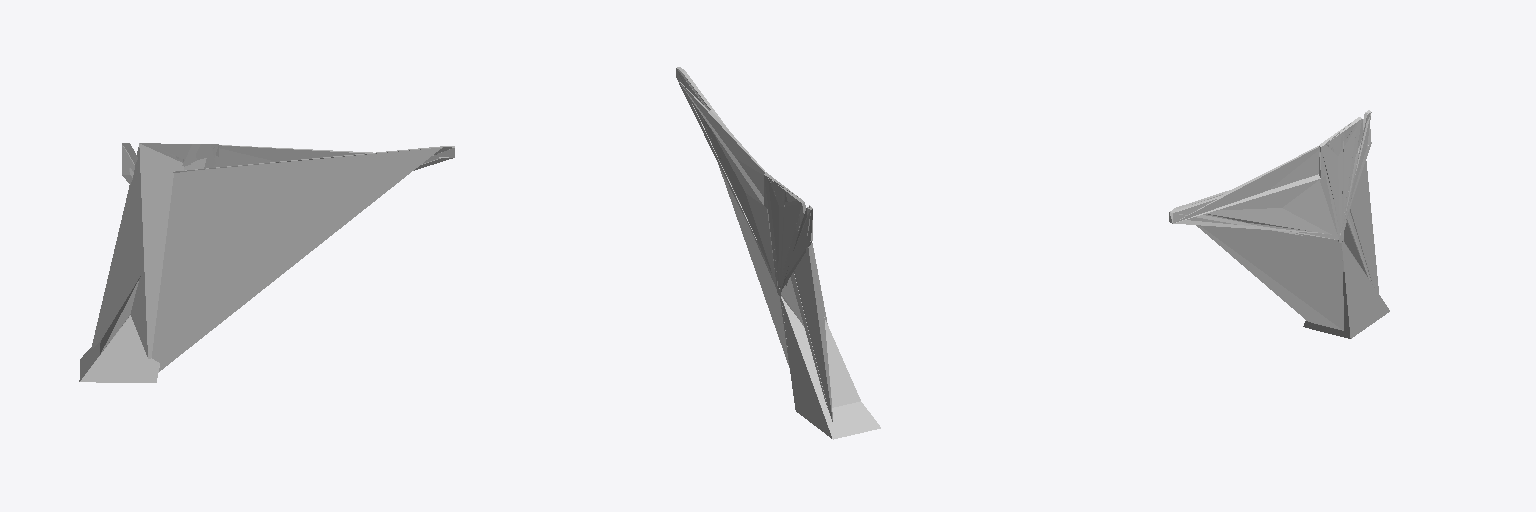
The model's file is gun_pistol.obj.
3 views of the same model, side by side, from view 1: azimuth 30°, elevation 25°; view 2: azimuth 150°, elevation 25°; view 3: azimuth 270°, elevation 25° (orthographic).
Visible parts, largest first — view 1: Box020, Cylinder003; view 2: Box020, Cylinder003, Box018; view 3: Box020, Cylinder003, Box018.
Boxes of the visible parts, <box> form: Box020: <box>79,143,454,382</box>; Cylinder003: <box>183,145,454,169</box>; Box020: <box>677,67,880,439</box>; Cylinder003: <box>676,67,803,288</box>; Box018: <box>764,175,801,292</box>; Box020: <box>1171,110,1389,338</box>; Cylinder003: <box>1169,117,1361,240</box>; Box018: <box>1321,119,1361,242</box>.
Bounding box in the file's own units: 325747 × 244246 × 214834.